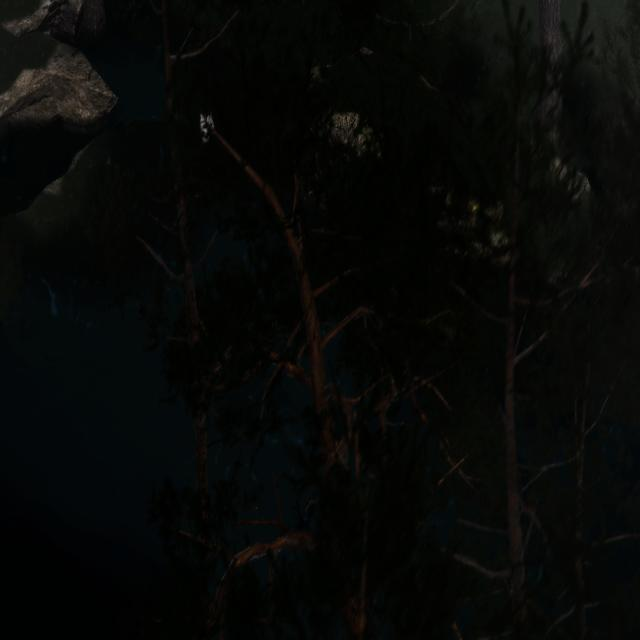Human: (198, 105, 216, 144)
